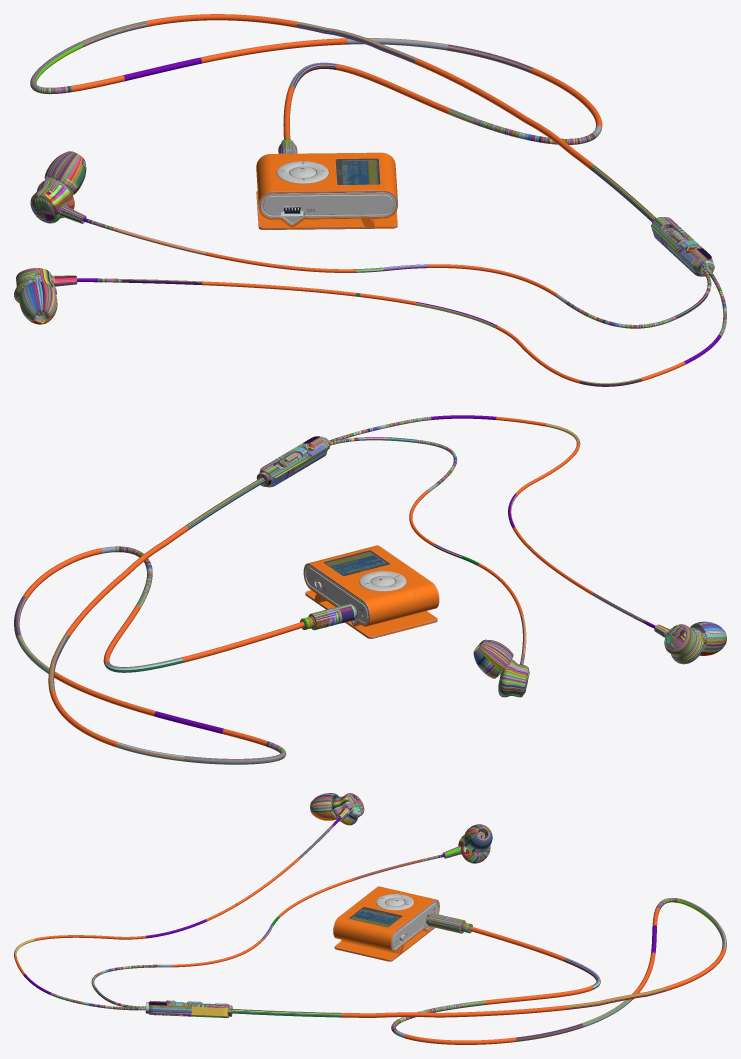
Rendered from mp3_player_fbx.fbx.
The picture shows the model from 3 angles, top to bottom: view 1: azimuth 30°, elevation 25°; view 2: azimuth 150°, elevation 25°; view 3: azimuth 270°, elevation 25°; orthographic projection. The views are drawn at different scales.
Visible parts, largest first — view 1: earphones, mp3_player; view 2: earphones, mp3_player; view 3: earphones, mp3_player.
Part boxes in pixels (x1=…): earphones: x1=14, y1=14, x2=726, y2=386; mp3_player: x1=256, y1=152, x2=397, y2=229; earphones: x1=14, y1=415, x2=726, y2=764; mp3_player: x1=303, y1=545, x2=439, y2=638; earphones: x1=14, y1=793, x2=726, y2=1044; mp3_player: x1=333, y1=886, x2=439, y2=961.
Size of the model in its own units: 39.93 by 3.41 by 51.76.
3 materials, 2 textured.
